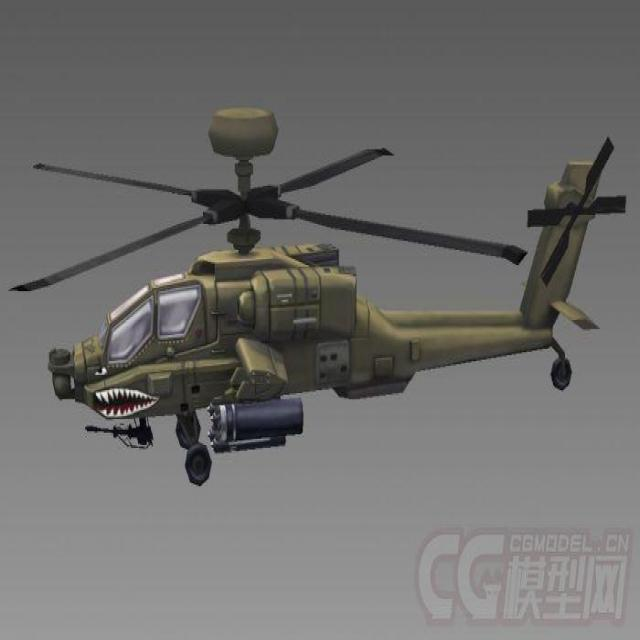MIL_HELO: (6, 100, 622, 505)
